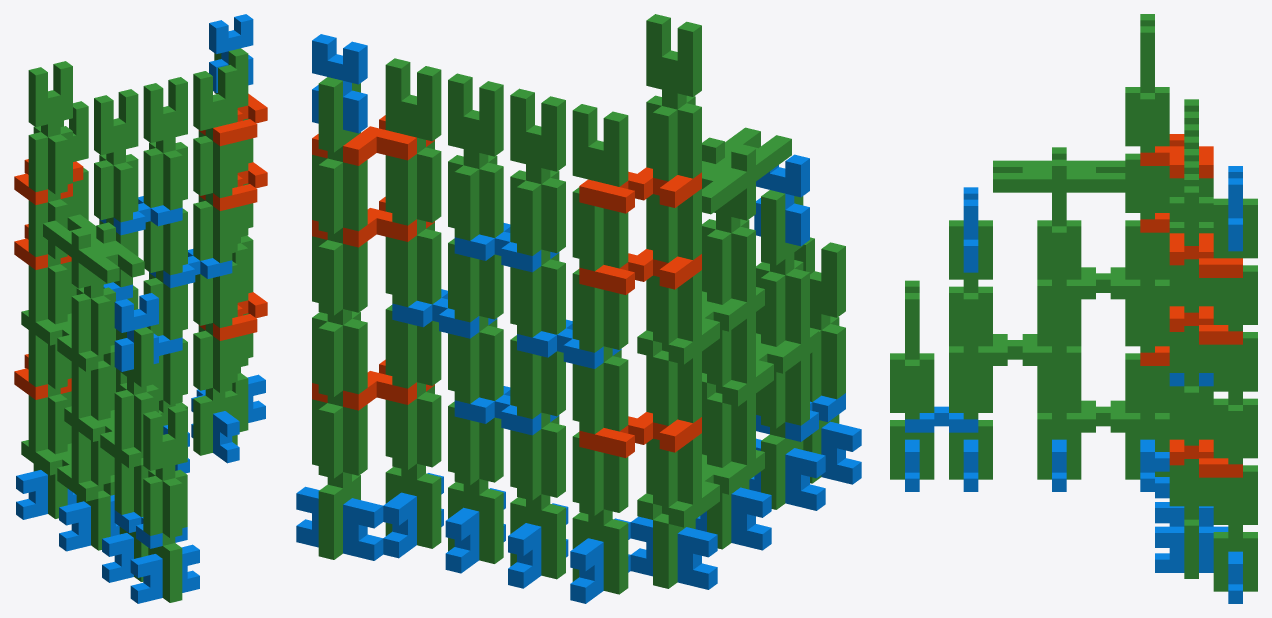
The picture shows the model from 3 angles, left to right: view 1: azimuth 30°, elevation 25°; view 2: azimuth 150°, elevation 25°; view 3: azimuth 270°, elevation 25°; orthographic projection. The views are drawn at different scales.
Visible parts, largest first — view 1: H_SIM (×37), X_SIM (×12), L_SIM (×6); view 2: H_SIM (×44), X_SIM (×16), L_SIM (×6); view 3: H_SIM (×31), X_SIM (×10), L_SIM (×6).
Part boxes in pixels (<box>): H_SIM (×37): <box>21,48,253,602</box>; X_SIM (×12): <box>16,14,265,603</box>; L_SIM (×6): <box>14,93,267,399</box>; H_SIM (×44): <box>312,14,845,594</box>; X_SIM (×16): <box>296,34,861,603</box>; L_SIM (×6): <box>312,115,701,458</box>; H_SIM (×31): <box>890,14,1257,591</box>; X_SIM (×10): <box>905,166,1242,603</box>; L_SIM (×6): <box>1140,134,1242,477</box>.
Size of the model in its own units: 2.99 by 4.42 by 3.25.
